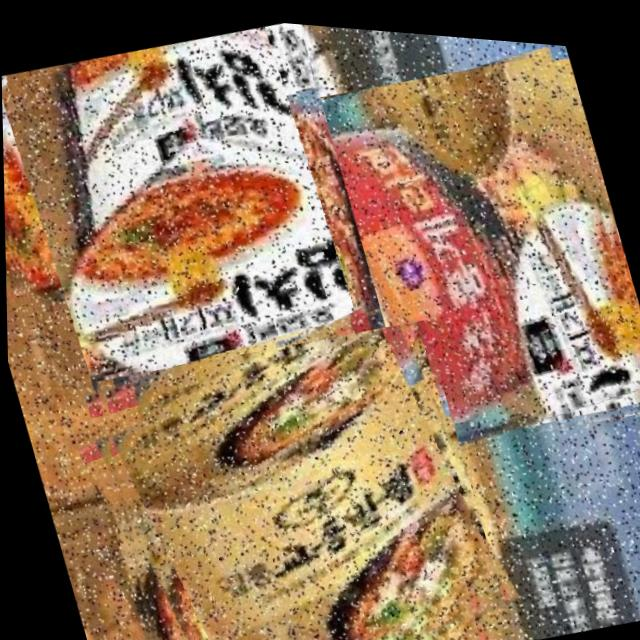Miscellaneous: (197, 16, 640, 501), (0, 0, 387, 418), (70, 288, 513, 640)
